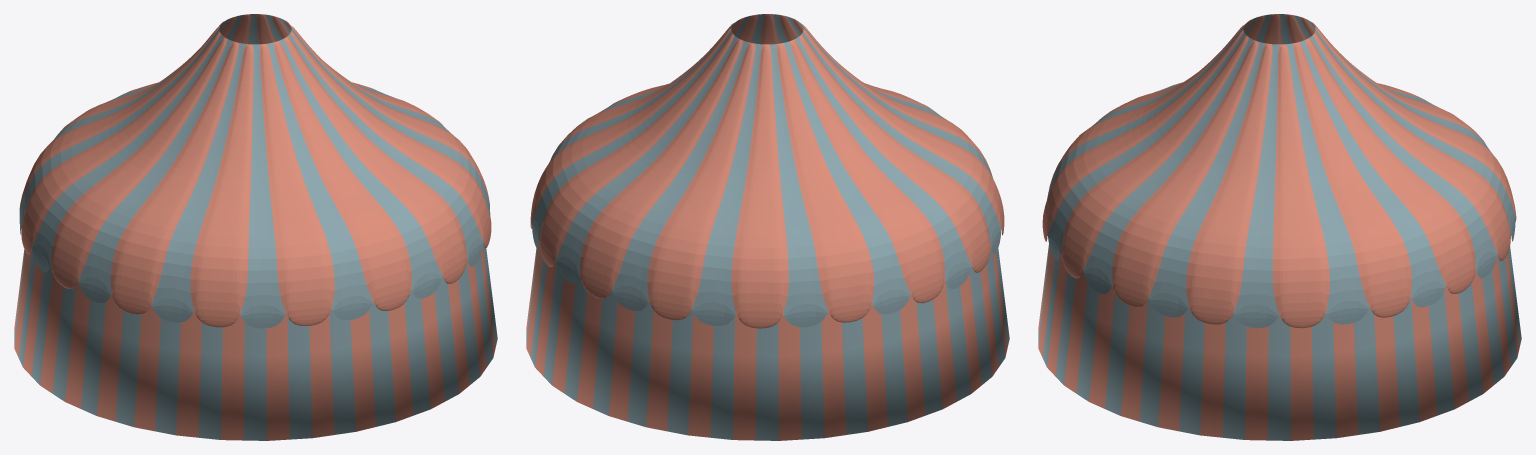
File: Zelt.fbx
3 views of the same model, side by side, from view 1: azimuth 30°, elevation 25°; view 2: azimuth 150°, elevation 25°; view 3: azimuth 270°, elevation 25° (orthographic).
Parts seen in each view (by area): view 1: Cylinder.001, Cylinder; view 2: Cylinder.001, Cylinder; view 3: Cylinder.001, Cylinder.
Boxes of the visible parts, x1,y1,x2,y2 form: Cylinder.001: (19, 14, 491, 328); Cylinder: (14, 242, 497, 440); Cylinder.001: (530, 14, 1004, 328); Cylinder: (526, 242, 1009, 440); Cylinder.001: (1042, 14, 1516, 328); Cylinder: (1038, 245, 1521, 440).
Bounding box in the file's own units: 331 × 233 × 330.
Materials: 2 (2 with a texture image).
